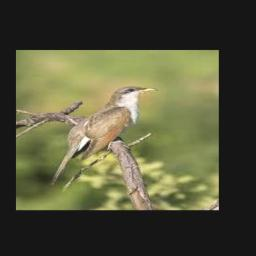Cuckoo: (50, 86, 158, 183)
